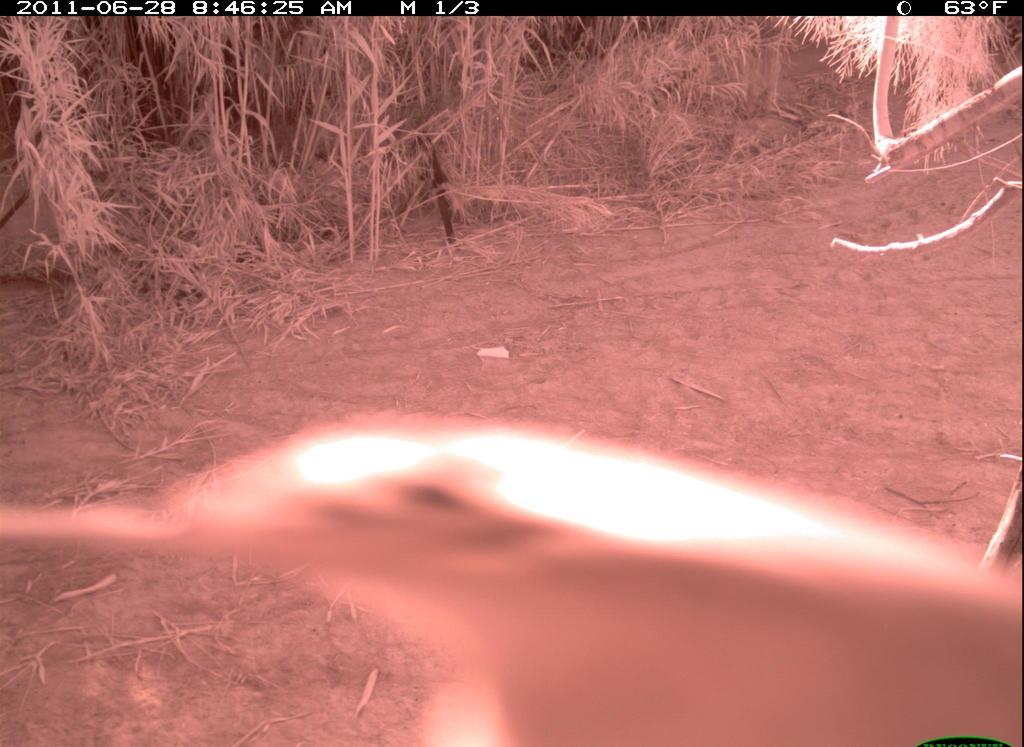bird: (3, 397, 1012, 738)
